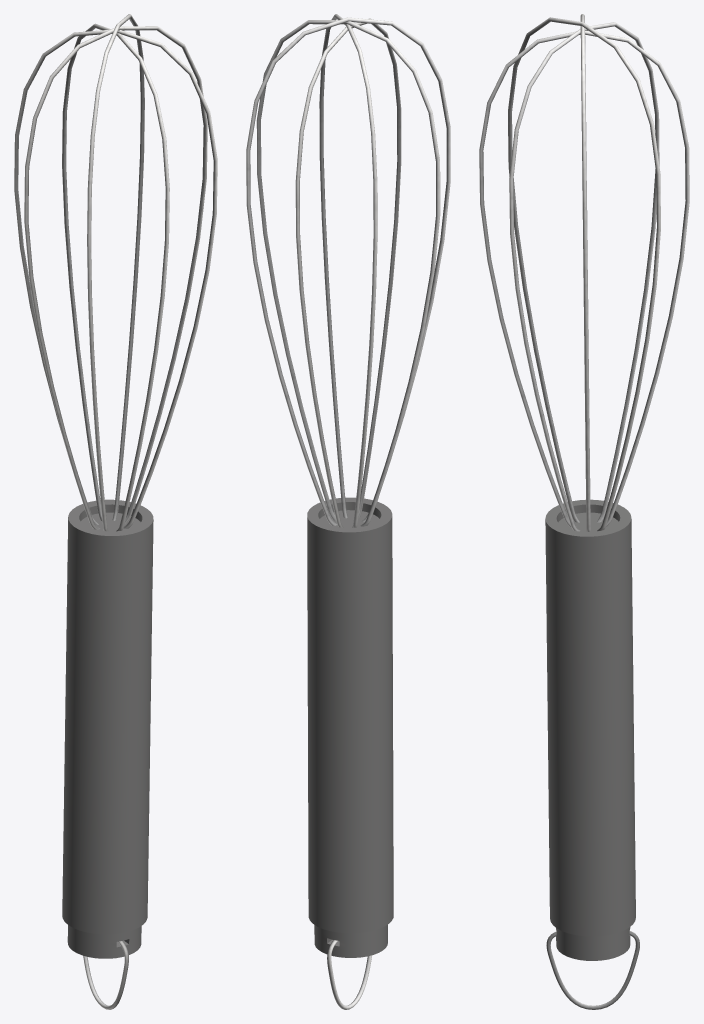
The model's file is whisk.obj.
The picture shows the model from 3 angles, left to right: view 1: azimuth 30°, elevation 25°; view 2: azimuth 150°, elevation 25°; view 3: azimuth 270°, elevation 25°; orthographic projection.
Parts seen in each view (by area): view 1: Circle, BezierCircle, BezierCircle.001; view 2: Circle, BezierCircle, BezierCircle.001; view 3: Circle, BezierCircle, BezierCircle.001.
Boxes of the visible parts, left/top/right/bottom form: Circle: left=62, top=499, right=153, bottom=958; BezierCircle: left=14, top=14, right=217, bottom=531; BezierCircle.001: left=83, top=941, right=128, bottom=1009; Circle: left=307, top=497, right=393, bottom=957; BezierCircle: left=246, top=14, right=450, bottom=527; BezierCircle.001: left=327, top=940, right=371, bottom=1009; Circle: left=545, top=499, right=635, bottom=960; BezierCircle: left=479, top=14, right=689, bottom=531; BezierCircle.001: left=546, top=931, right=639, bottom=1009.
Size of the model in its own units: 0.0494 by 0.2543 by 0.0489.
2 materials, 2 textured.
